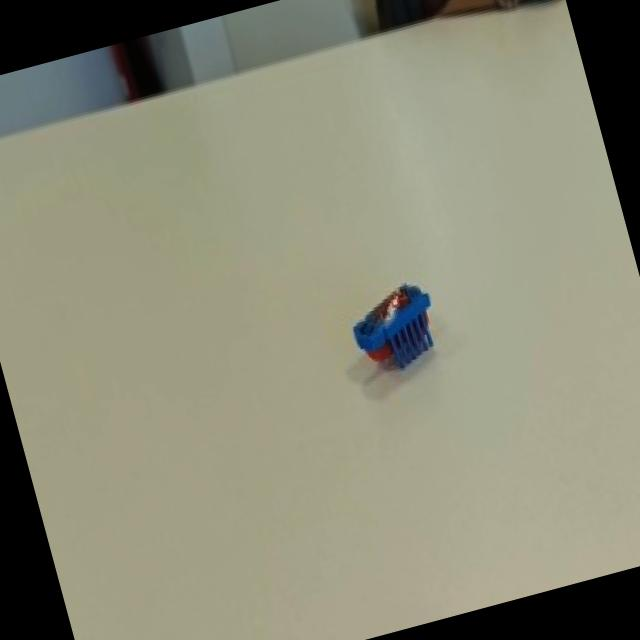1_NanoBug_Azul: (314, 233, 480, 432)
